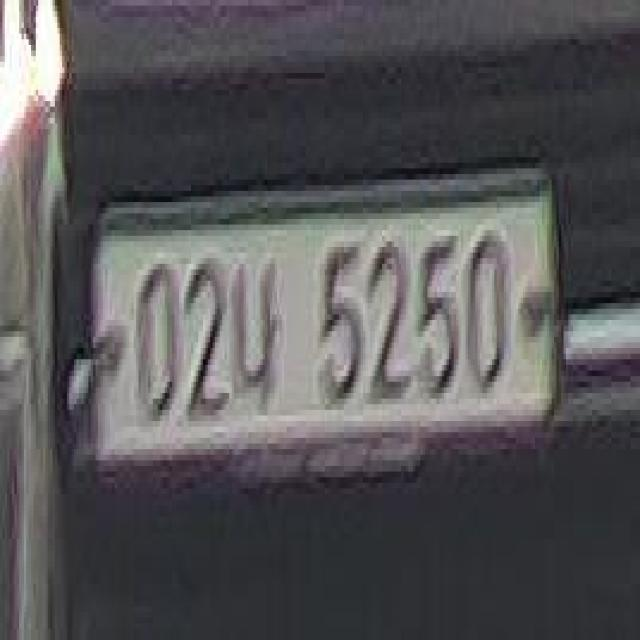illegal_plate: (90, 175, 557, 489)
